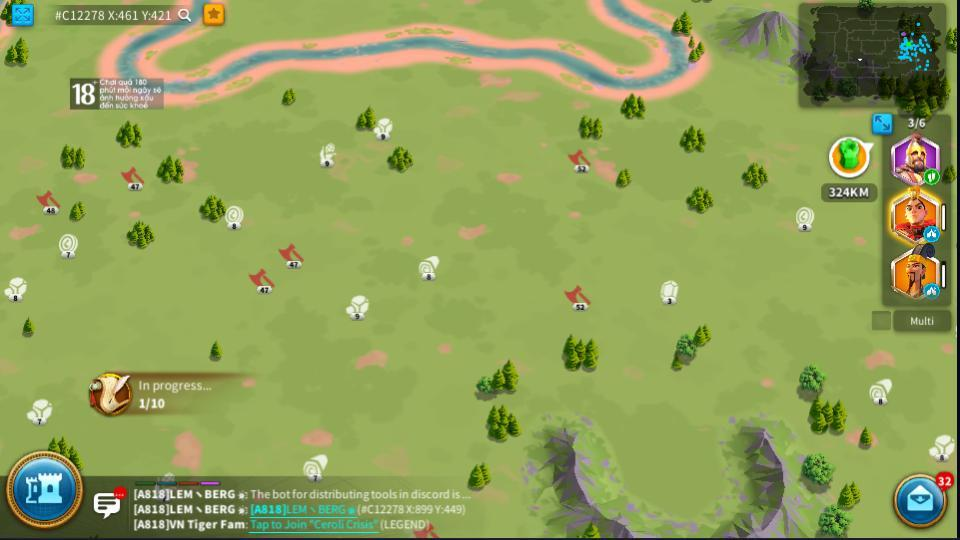gem-z-out: (659, 279, 680, 302)
march_idle: (923, 284, 939, 297), (923, 227, 938, 239)
march_marching: (923, 170, 938, 184)
